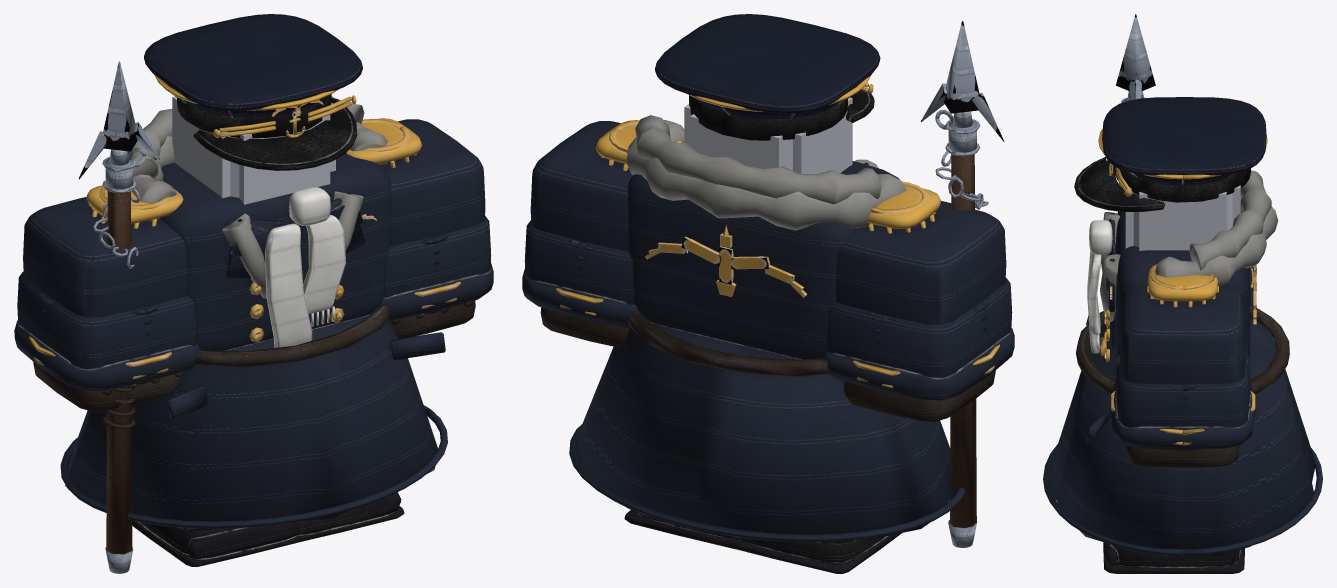
Rendered from albatros.glb.
The picture shows the model from 3 angles, left to right: view 1: azimuth 30°, elevation 25°; view 2: azimuth 150°, elevation 25°; view 3: azimuth 270°, elevation 25°; orthographic projection. The views are drawn at different scales.
Visible parts, largest first — view 1: Albatros_Abrigo, Albatros_Gorra, Albatros_MangaDer, Albatros_PunoDer, Albatros_Bufanda, Albatros_MangaIzq, Albatros_PunoIzq, Albatros_Gorra_Charol, Albatros_Abrigo_PielGris, Maniqui_Head, Albatros_Abrigo_Oro, Albatros_Baston_Acero (+7 smaller); view 2: Albatros_Abrigo, Albatros_Gorra, Albatros_MangaDer, Albatros_Abrigo_PielGris, Albatros_PunoDer, Albatros_MangaIzq, Albatros_PunoIzq, Maniqui_Head, Albatros_Baston_Acero, Albatros_Abrigo_Oro, Albatros_Baston, Albatros_Gorra_Charol (+6 smaller); view 3: Albatros_Abrigo, Albatros_Gorra, Albatros_MangaIzq, Albatros_PunoIzq, Albatros_Abrigo_PielGris, Maniqui_Head, Albatros_Gorra_Charol, Albatros_BotaIzq, Albatros_Abrigo_Oro, Albatros_Abrigo_Cuero, Albatros_GuanteIzq, Albatros_Bufanda (+2 smaller).
Boxes of the visible parts, x1,y1,x2,y2 form: Albatros_Abrigo: (60, 153, 447, 530); Albatros_Gorra: (144, 14, 362, 117); Albatros_MangaDer: (23, 197, 188, 335); Albatros_PunoDer: (14, 271, 201, 390); Albatros_Bufanda: (265, 187, 346, 347); Albatros_MangaIzq: (379, 119, 485, 264); Albatros_PunoIzq: (378, 215, 493, 319); Albatros_Gorra_Charol: (177, 94, 357, 170); Albatros_Abrigo_PielGris: (127, 96, 387, 298); Maniqui_Head: (172, 96, 335, 204); Albatros_Abrigo_Oro: (29, 118, 460, 379); Albatros_Baston_Acero: (78, 61, 159, 573); Albatros_Abrigo: (569, 161, 965, 542); Albatros_Gorra: (655, 14, 880, 119); Albatros_MangaDer: (835, 201, 1006, 342); Albatros_Abrigo_PielGris: (626, 115, 905, 230); Albatros_PunoDer: (823, 277, 1014, 400); Albatros_MangaIzq: (530, 121, 632, 269); Albatros_PunoIzq: (522, 220, 640, 327); Maniqui_Head: (684, 97, 852, 174); Albatros_Baston_Acero: (921, 21, 1004, 547); Albatros_Abrigo_Oro: (556, 120, 999, 388); Albatros_Baston: (950, 154, 976, 528); Albatros_Gorra_Charol: (689, 89, 874, 140); Albatros_Abrigo: (1043, 211, 1322, 556); Albatros_Gorra: (1102, 97, 1266, 186); Albatros_MangaIzq: (1115, 287, 1250, 408); Albatros_PunoIzq: (1110, 342, 1256, 449); Albatros_Abrigo_PielGris: (1100, 170, 1278, 321); Maniqui_Head: (1125, 185, 1240, 250); Albatros_Gorra_Charol: (1074, 157, 1250, 211); Albatros_BotaIzq: (1103, 542, 1244, 573); Albatros_Abrigo_Oro: (1100, 264, 1255, 445); Albatros_Abrigo_Cuero: (1076, 305, 1289, 394); Albatros_GuanteIzq: (1122, 443, 1239, 467); Albatros_Bufanda: (1087, 220, 1112, 353).
Bounding box in the file's own units: 1.49 × 1.67 × 0.9488.
Materials: 22 (21 with a texture image).
